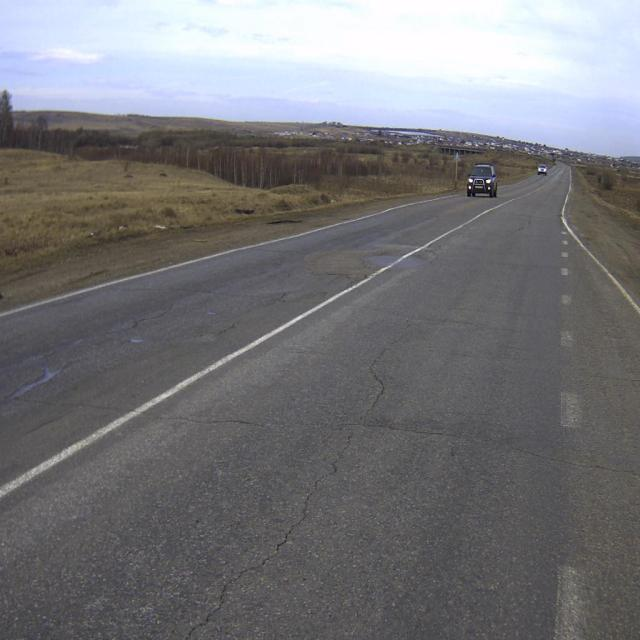road: (0, 161, 640, 639)
